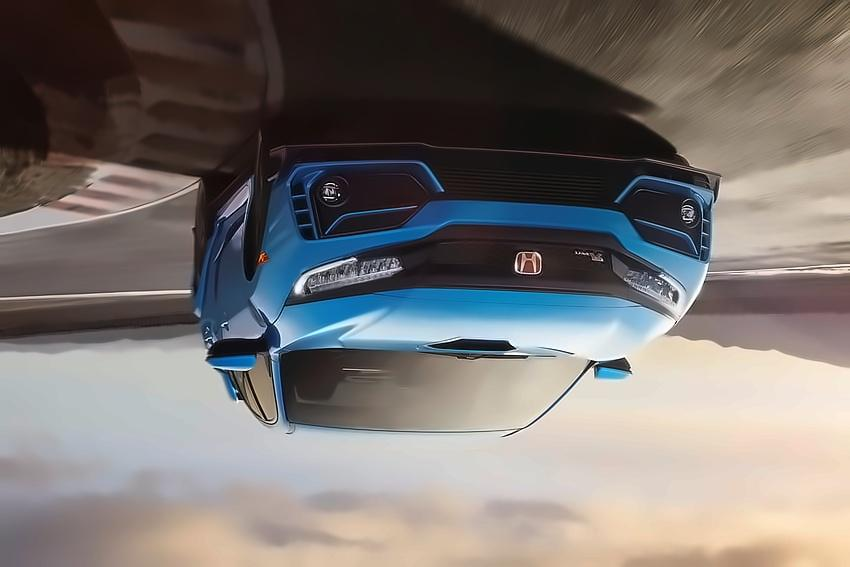Car hood: (256, 285, 685, 373), (206, 337, 264, 374)
Front bumper: (261, 127, 720, 315)
Headlight - -L-: (286, 245, 416, 306)
Headlight - -R-: (611, 246, 688, 326)
Passenger-s door - -F-L-: (213, 143, 284, 441)
Side bumper - -L-: (205, 158, 263, 279)
